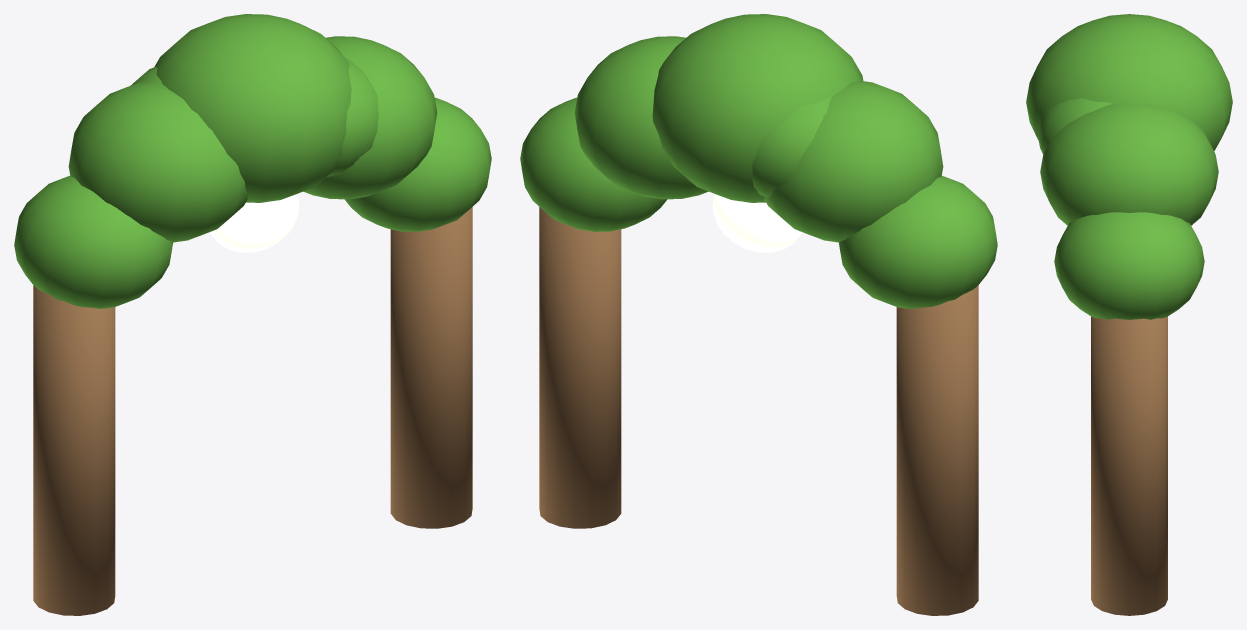
File: SM_Leaf_Gate.fbx
3 renders of one model, left to right at view 1: azimuth 30°, elevation 25°; view 2: azimuth 150°, elevation 25°; view 3: azimuth 270°, elevation 25°, orthographic. The views are drawn at different scales.
Parts seen in each view (by area): view 1: Gate_Pillar_L, Gate_Canopy_Leaf_2, Gate_Pillar_R, Gate_Canopy_Leaf_1, Gate_Canopy_Leaf_0, Gate_Canopy_Leaf_3, Gate_Canopy_Leaf_4, Gate_Momo_Emblem, Gate_Canopy_Leaf_6; view 2: Gate_Pillar_L, Gate_Pillar_R, Gate_Canopy_Leaf_2, Gate_Canopy_Leaf_1, Gate_Canopy_Leaf_0, Gate_Canopy_Leaf_3, Gate_Canopy_Leaf_4, Gate_Canopy_Leaf_5, Gate_Momo_Emblem; view 3: Gate_Pillar_R, Gate_Canopy_Leaf_3, Gate_Canopy_Leaf_2, Gate_Canopy_Leaf_4, Gate_Canopy_Leaf_6.
Part boxes in pixels (box(x1,y1,x2,y2)): Gate_Pillar_L: box(33, 285, 115, 615); Gate_Canopy_Leaf_2: box(154, 14, 351, 202); Gate_Pillar_R: box(390, 207, 472, 528); Gate_Canopy_Leaf_1: box(68, 82, 247, 242); Gate_Canopy_Leaf_0: box(14, 175, 172, 308); Gate_Canopy_Leaf_3: box(303, 36, 437, 199); Gate_Canopy_Leaf_4: box(344, 97, 491, 231); Gate_Momo_Emblem: box(210, 194, 299, 252); Gate_Canopy_Leaf_6: box(327, 58, 378, 176); Gate_Pillar_L: box(896, 285, 978, 615); Gate_Pillar_R: box(539, 207, 621, 528); Gate_Canopy_Leaf_2: box(652, 14, 863, 202); Gate_Canopy_Leaf_1: box(764, 80, 943, 242); Gate_Canopy_Leaf_0: box(839, 175, 997, 308); Gate_Canopy_Leaf_3: box(574, 36, 708, 199); Gate_Canopy_Leaf_4: box(520, 97, 667, 231); Gate_Canopy_Leaf_5: box(751, 96, 831, 197); Gate_Momo_Emblem: box(712, 194, 801, 252); Gate_Pillar_R: box(1091, 316, 1167, 615); Gate_Canopy_Leaf_3: box(1040, 103, 1218, 225); Gate_Canopy_Leaf_2: box(1026, 14, 1232, 150); Gate_Canopy_Leaf_4: box(1054, 212, 1204, 319); Gate_Canopy_Leaf_6: box(1037, 98, 1112, 154).
Size of the model in its own units: 230 by 255 by 96.8.
